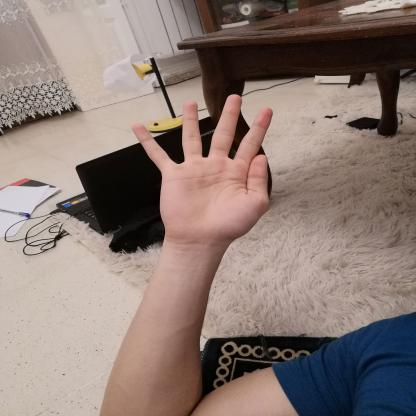SHEEN: (122, 86, 281, 250)
